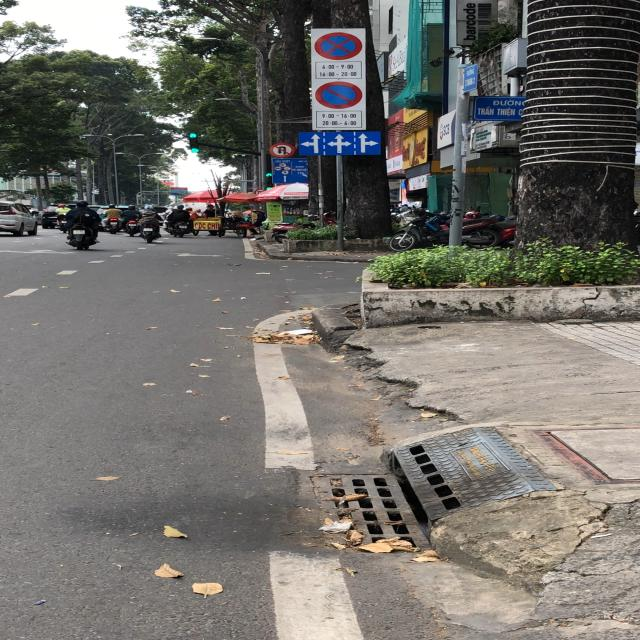Bien bao cam do xe: (313, 80, 366, 110)
Bien bao cam dung xe va do xe: (312, 31, 363, 61)
Bien bao cam quay dau xe: (267, 140, 299, 159)
